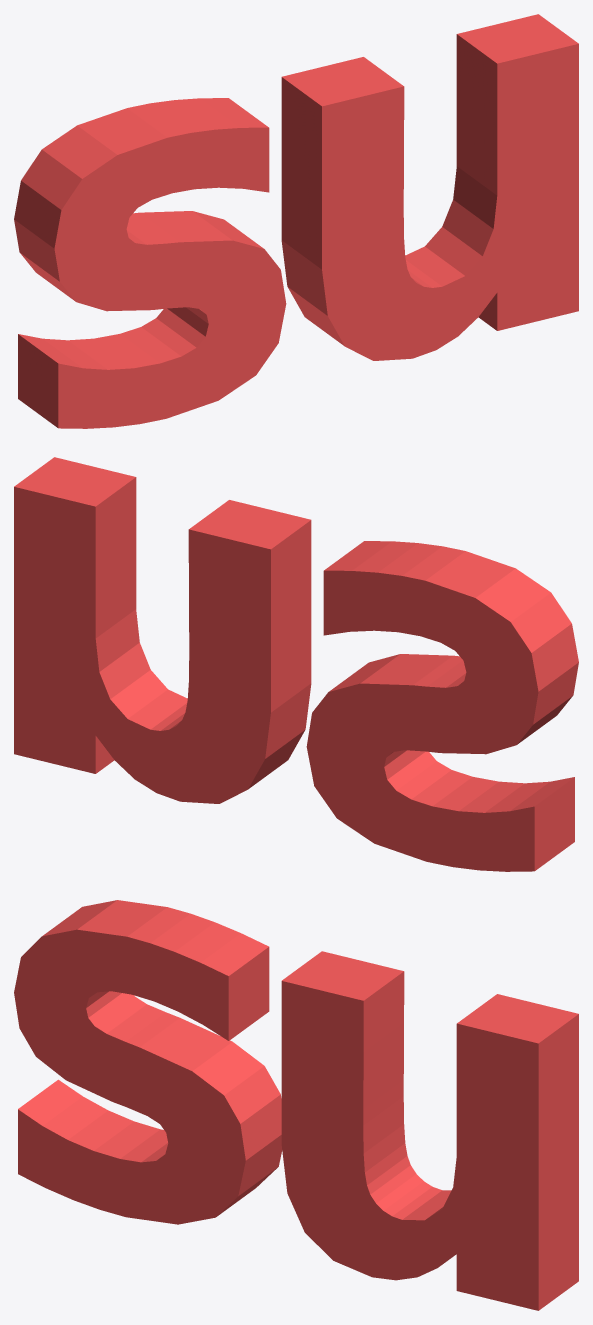
Rendered from suku_kecil_su.glb.
3 renders of one model, top to bottom at view 1: azimuth 30°, elevation 25°; view 2: azimuth 150°, elevation 25°; view 3: azimuth 330°, elevation 25°, orthographic.
Parts seen in each view (by area): view 1: geometry_0; view 2: geometry_0; view 3: geometry_0.
Boxes of the visible parts, box(x1,y1,x2,y2) form: geometry_0: box(14, 14, 578, 428); geometry_0: box(14, 457, 578, 871); geometry_0: box(14, 900, 578, 1310).
Bounding box in the file's own units: 11.22 × 5.74 × 1.5.
